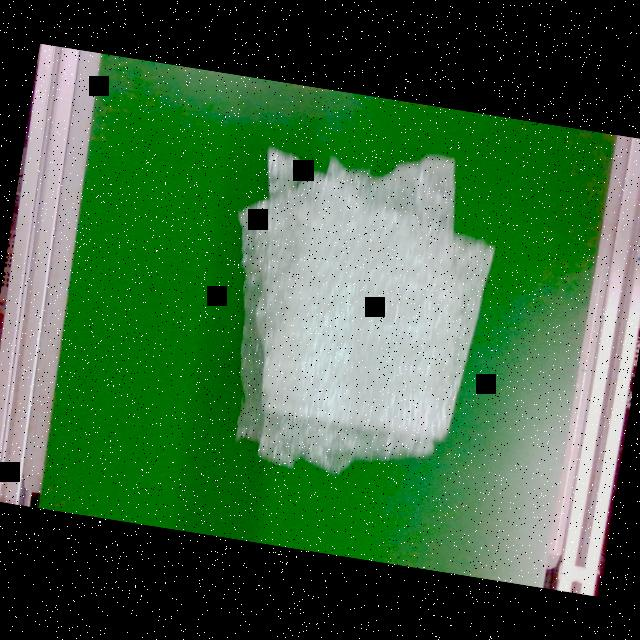scrap_plastic: (202, 119, 512, 494)
